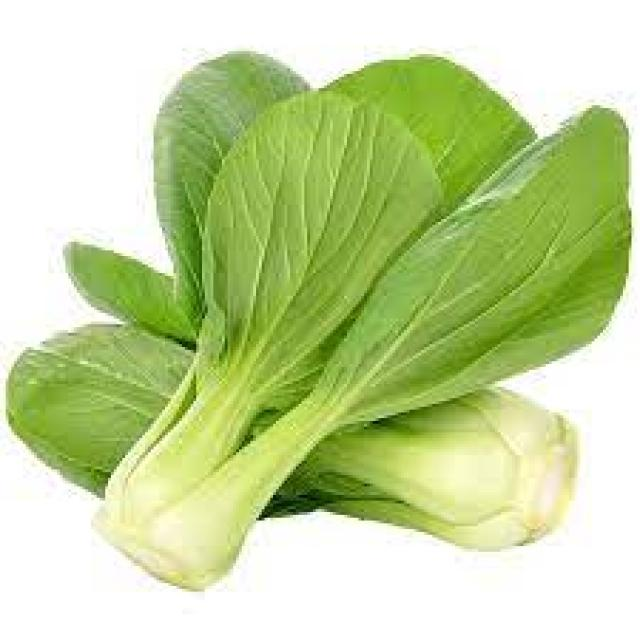bokchoy: (6, 48, 608, 600)
